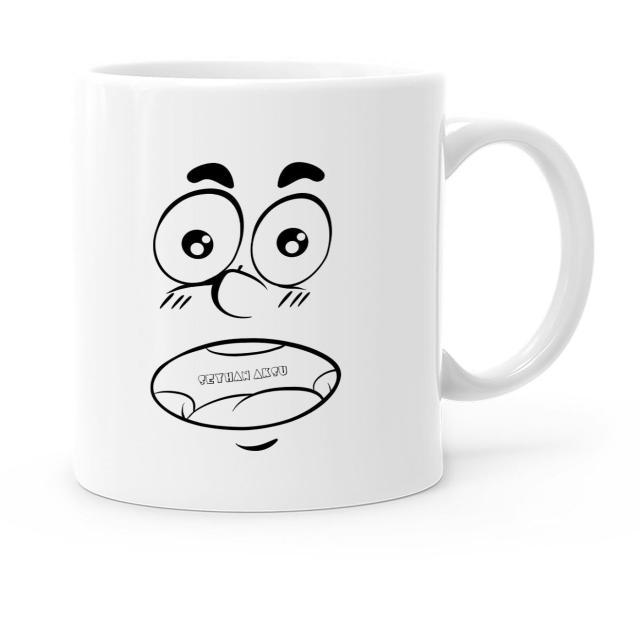Coffee Mug: (72, 57, 594, 514)
